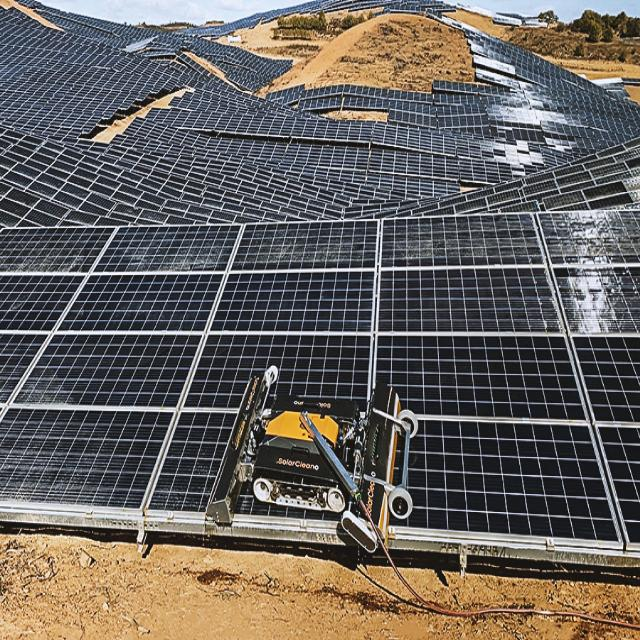clean-solar-panel: (1, 0, 640, 568)
